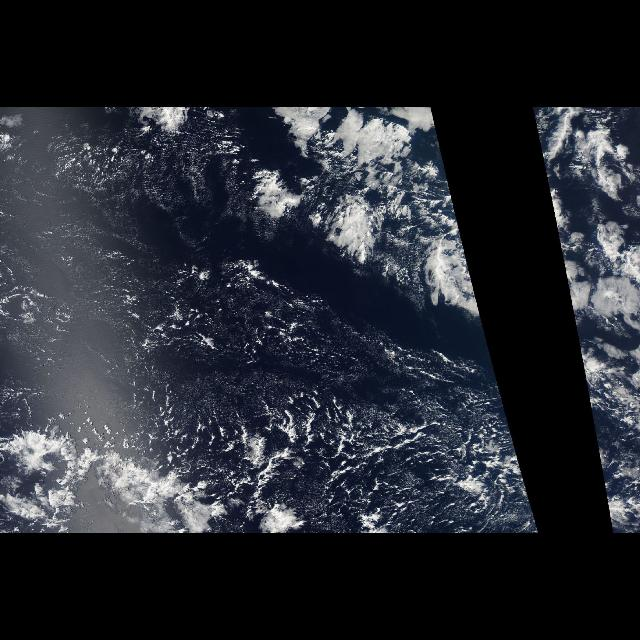Gravel: (1, 254, 537, 532)
